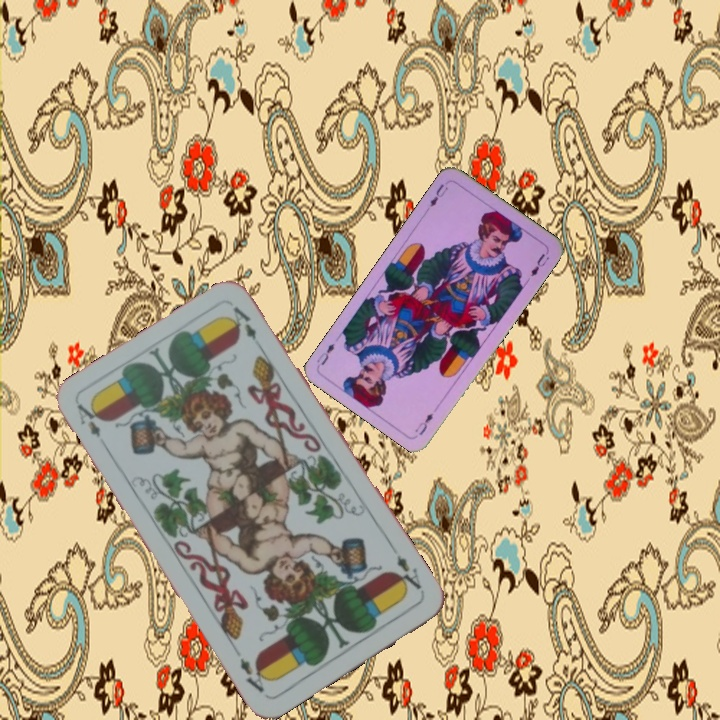EA: (72, 399, 111, 453), (388, 544, 424, 596)
EU: (425, 180, 451, 210), (411, 409, 436, 438)
